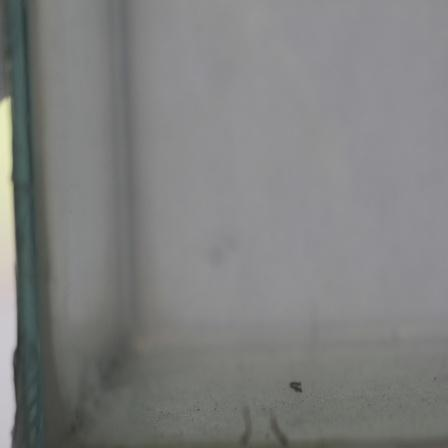Jentik-Nyamuk: (285, 376, 309, 399)
